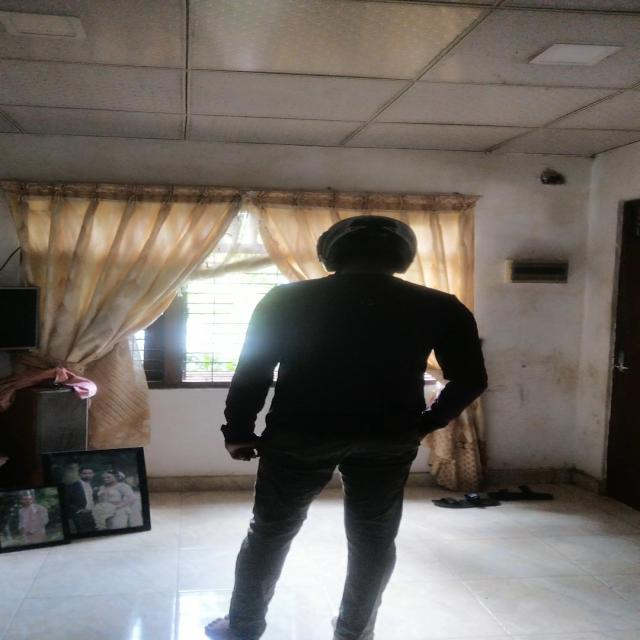Helmet_Wearer: (285, 207, 431, 281)
Person: (242, 210, 465, 626)
